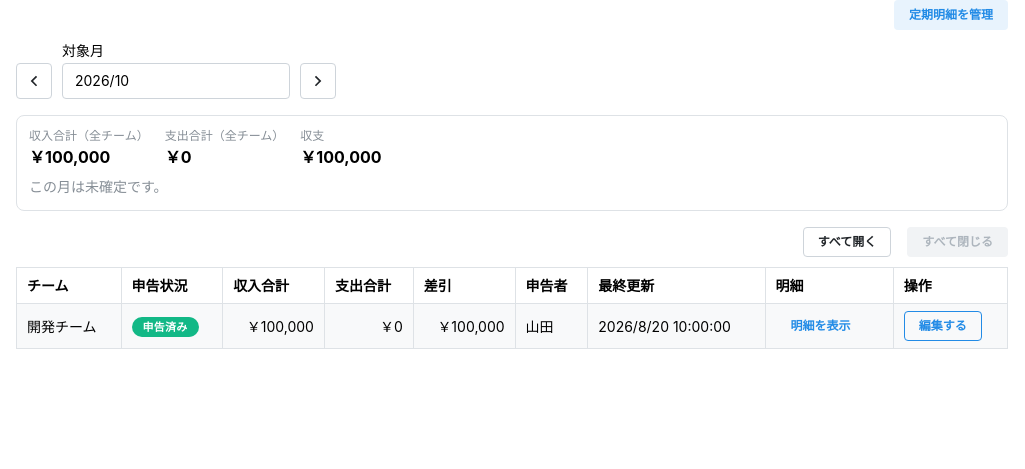
it: BudgetDeclarationList › 翌月ボタンで月を切り替えても開閉状態がリセットされる
Step 1. Click the button "明細を表示" → (820, 326), box [776,311,866,341]
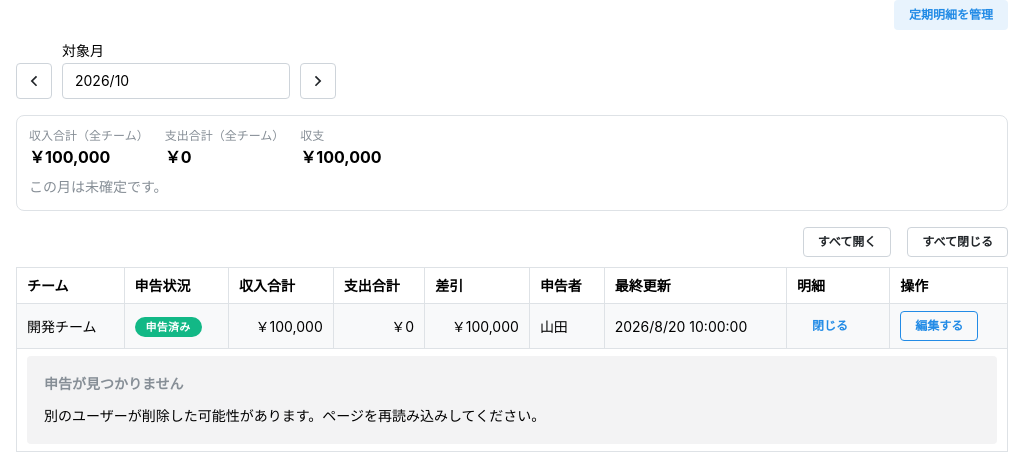
Now the text "申告が見つかりません" is shown, box [44,373,184,395]
Step 2. Click the button named "翌月" → (318, 81), box [300,63,336,99]
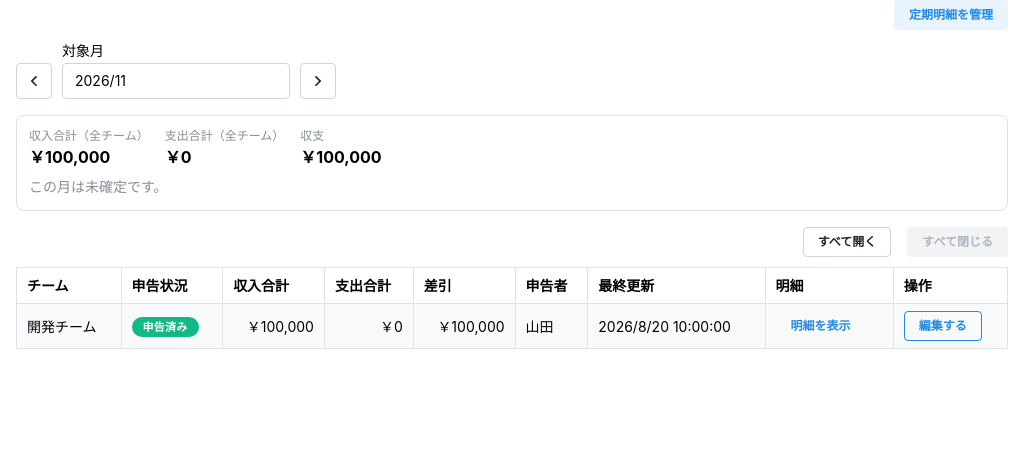
Now the text "申告が見つかりません" is gone
